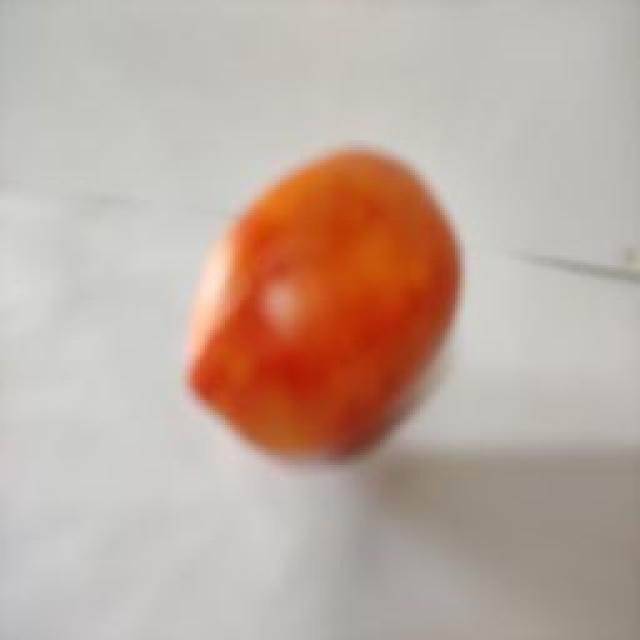Ripe: (172, 138, 472, 472)
